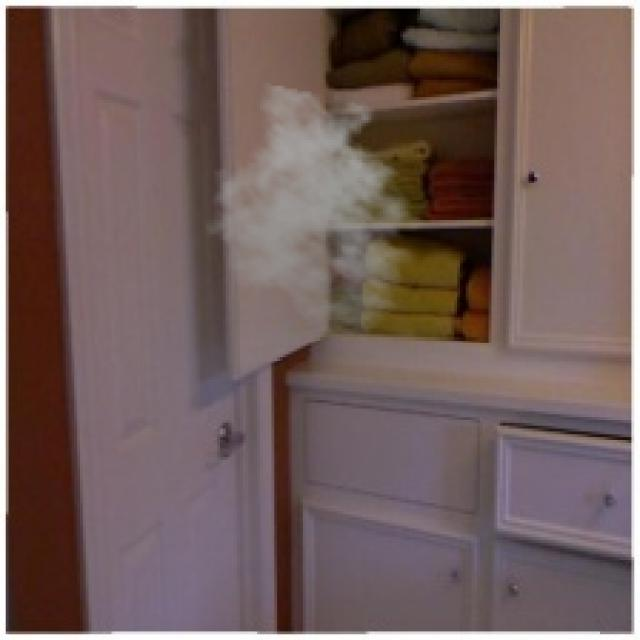smoke: (203, 83, 434, 337)
